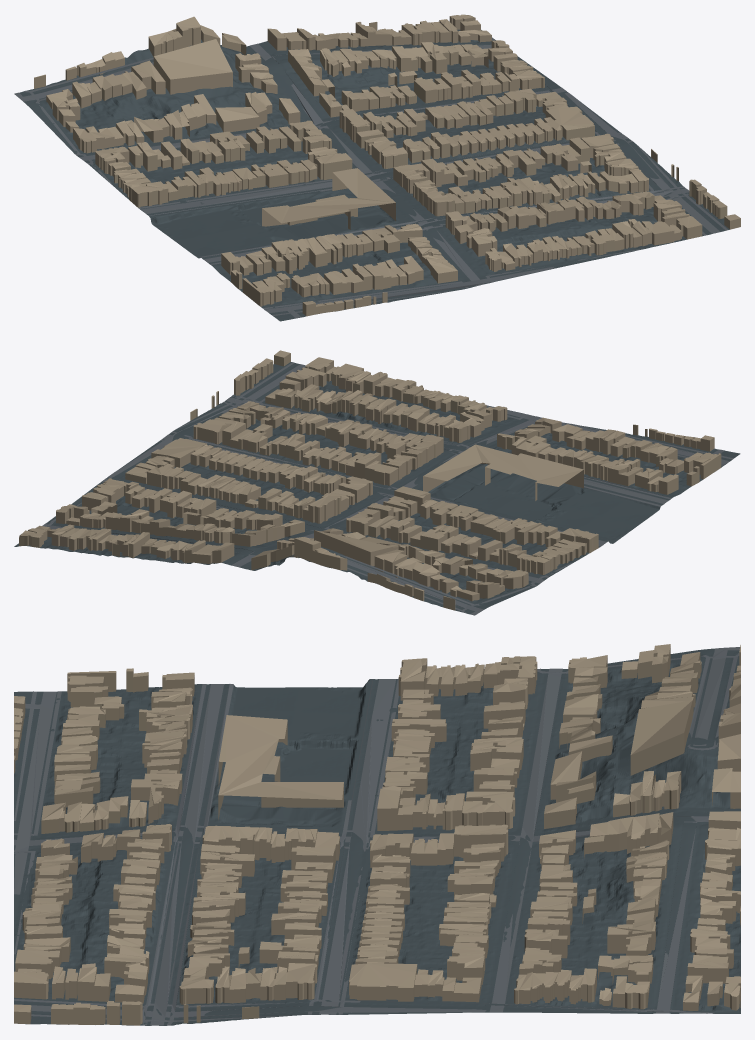
Rendered from epsg26910-1432-10880.lod0.glb.
3 views of the same model, one above another, from view 1: azimuth 30°, elevation 25°; view 2: azimuth 150°, elevation 25°; view 3: azimuth 270°, elevation 25° (orthographic). The views are drawn at different scales.
Parts seen in each view (by area): view 1: epsg26910-1432-10880-lod0; view 2: epsg26910-1432-10880-lod0; view 3: epsg26910-1432-10880-lod0.
Boxes of the visible parts, x1,y1,x2,y2 form: epsg26910-1432-10880-lod0: (14,14,740,321); epsg26910-1432-10880-lod0: (14,350,740,615); epsg26910-1432-10880-lod0: (14,644,740,1025).
Size of the model in its own units: 384 by 68.35 by 384.
